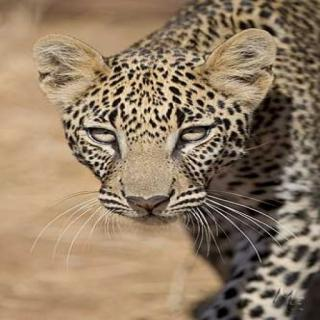Leopard: (33, 0, 320, 301)
